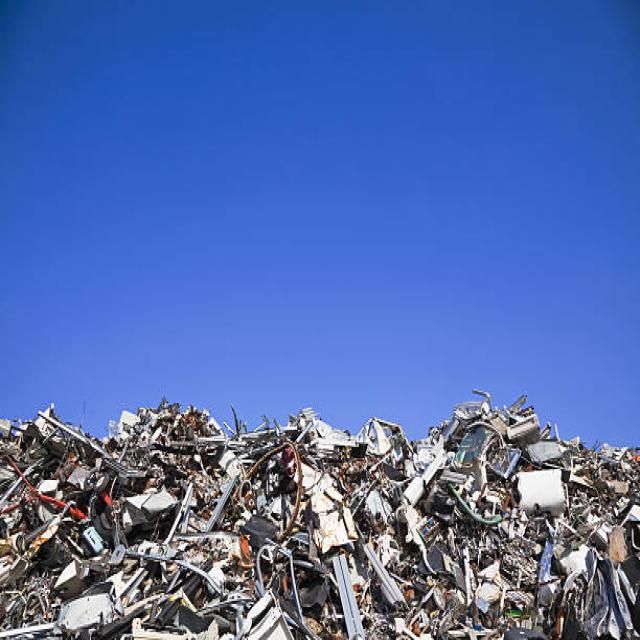metal: (337, 452, 523, 621), (1, 547, 214, 640)
